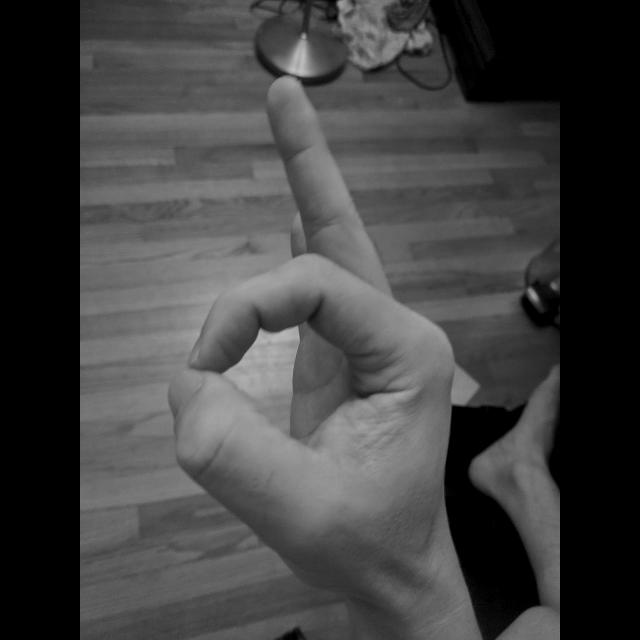F: (160, 70, 464, 610)
